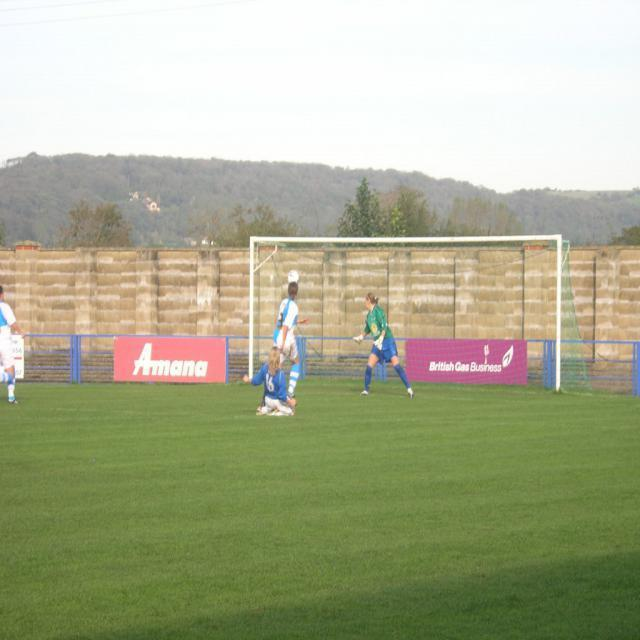ball: (286, 269, 298, 285)
